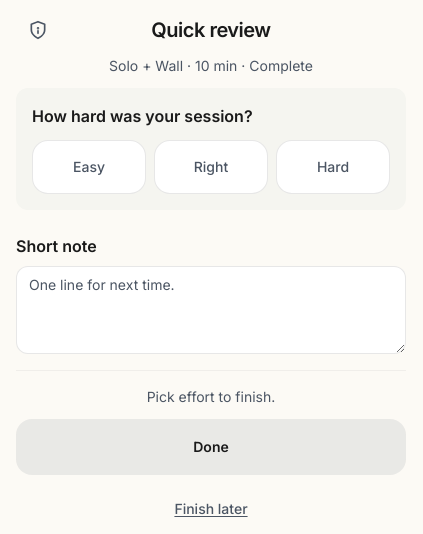
Test: ReviewScreen H19 conflict handoff › renders "already reviewed" copy when existing record is submitted
The image size is (423, 534).
Expected: the heading "Quick review" is shown, top-left (151, 16), bottom-right (271, 44)
What coordinates should you click on to do the following:
click the radio button labelled "Hard"
I would click on:
 (333, 167)
Its box is top-left (276, 140), bottom-right (390, 194).
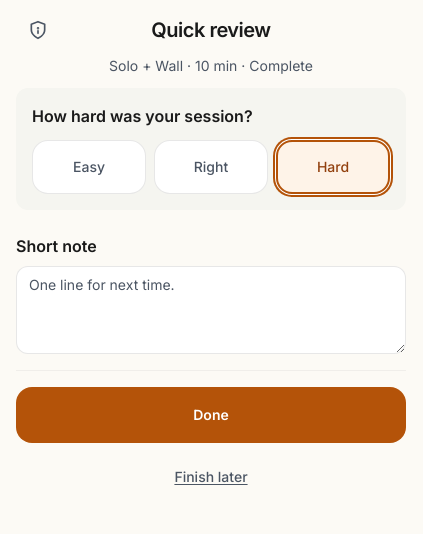
What coordinates should you click on to do the following:
click the button "Done"
I would click on:
 (211, 415)
Its box is top-left (16, 387), bottom-right (406, 443).
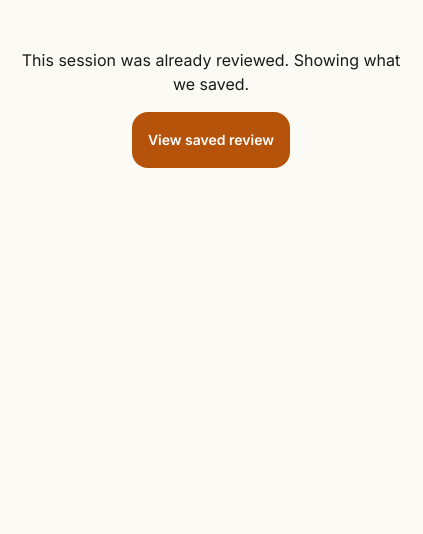
Expected: the text "This session was already reviewed. Showing what we saved." is shown, top-left (16, 48), bottom-right (406, 96)
Expected: the button "View saved review" is shown, top-left (132, 112), bottom-right (290, 168)
